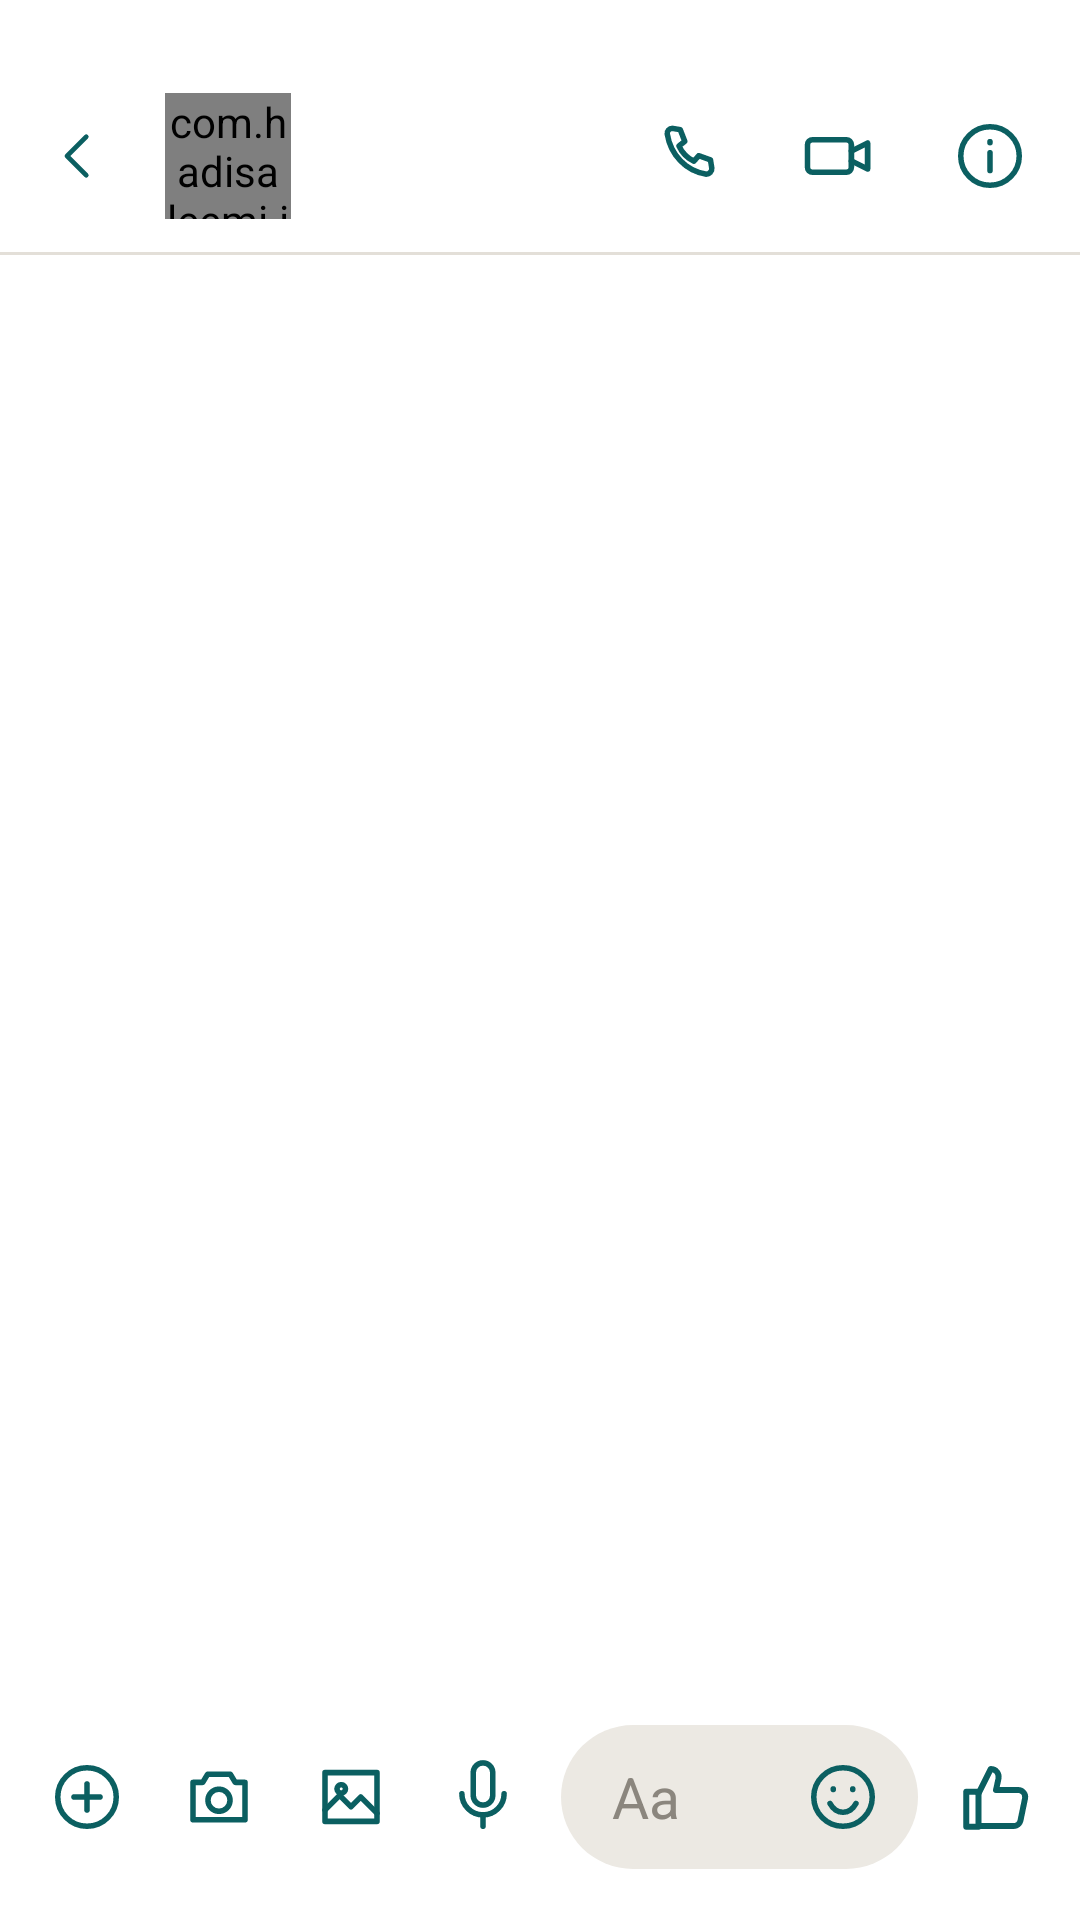

Where to tap for icons on this 1080w x 1920h app screen, as [x,y]:
ol back: [76,156]
ol call: [689,151]
ol camera: [219,1797]
ol emoji: [843,1797]
ol info: [990,156]
ol mic: [483,1794]
ol plus circle: [87,1797]
ol thumb: [996,1798]
ol video: [837,156]
